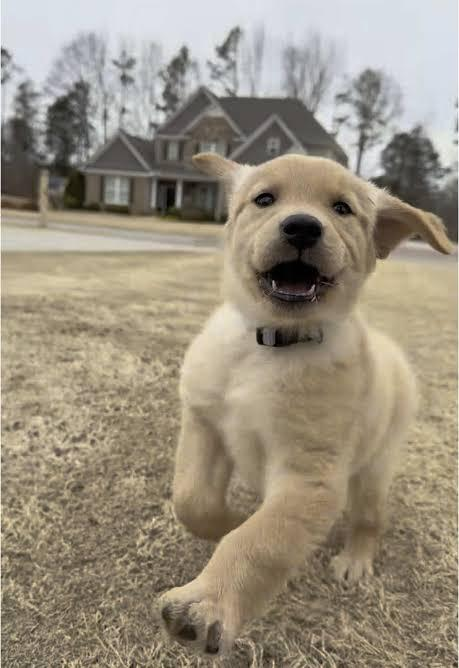puppy-dog: (157, 149, 458, 658)
